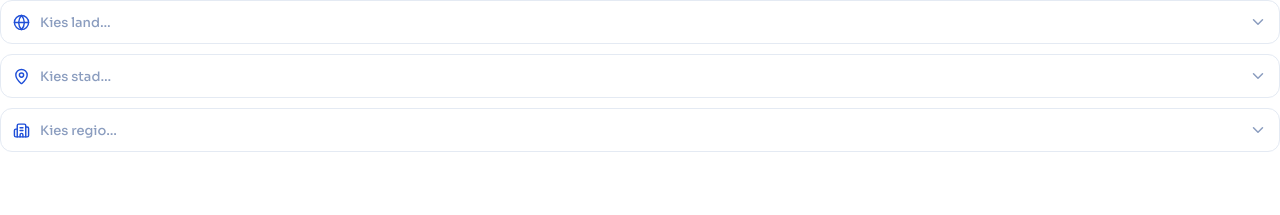
Scenario: ScopePicker — choosing where to search › says to choose a country before it can offer a city
This screenshot has width=1280, height=215.
Click the dropdown with test id "scope-city" at (640, 76), box [40, 68, 1239, 84]
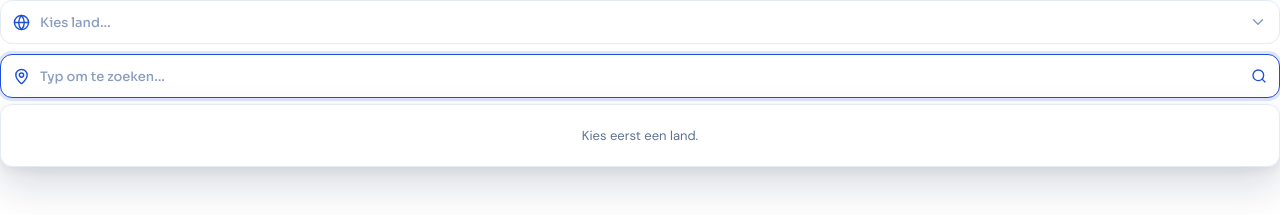
Expected: the list item "Kies eerst een land." is shown, [582, 127, 698, 144]
